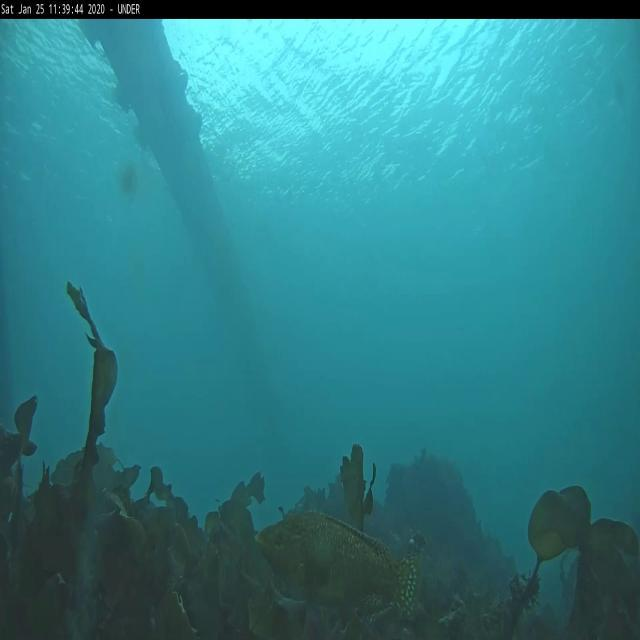fish: (256, 514, 419, 626)
